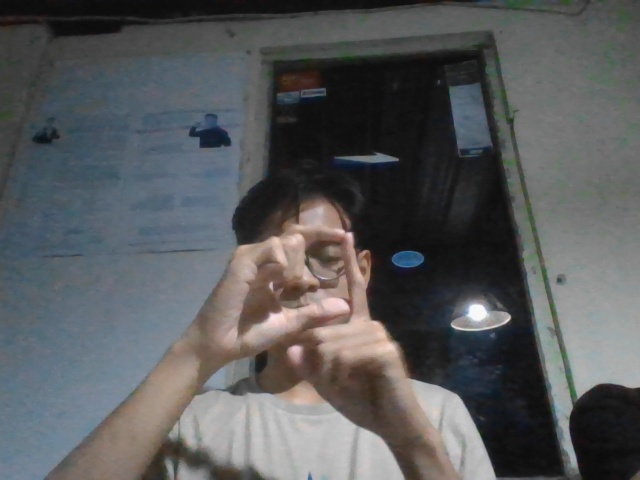D: (184, 216, 439, 435)
